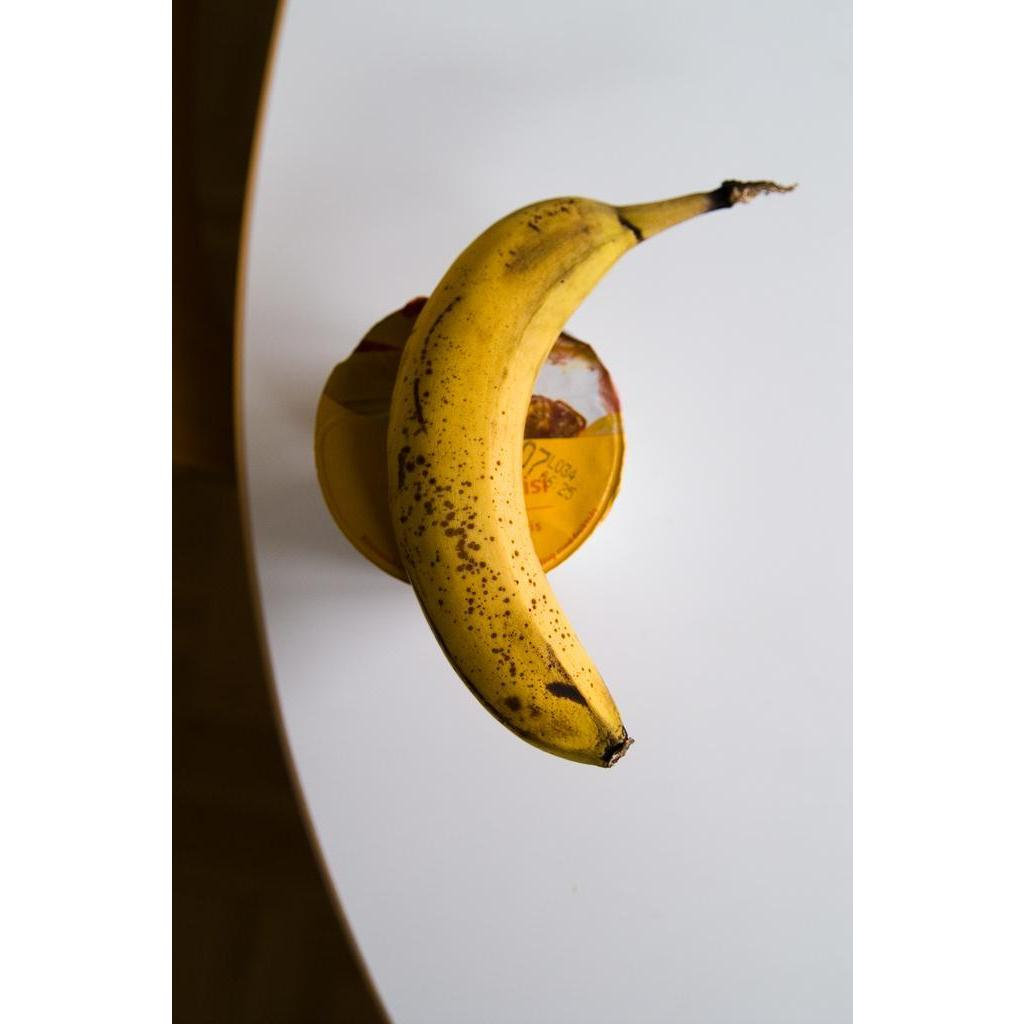banana: (384, 181, 785, 771)
